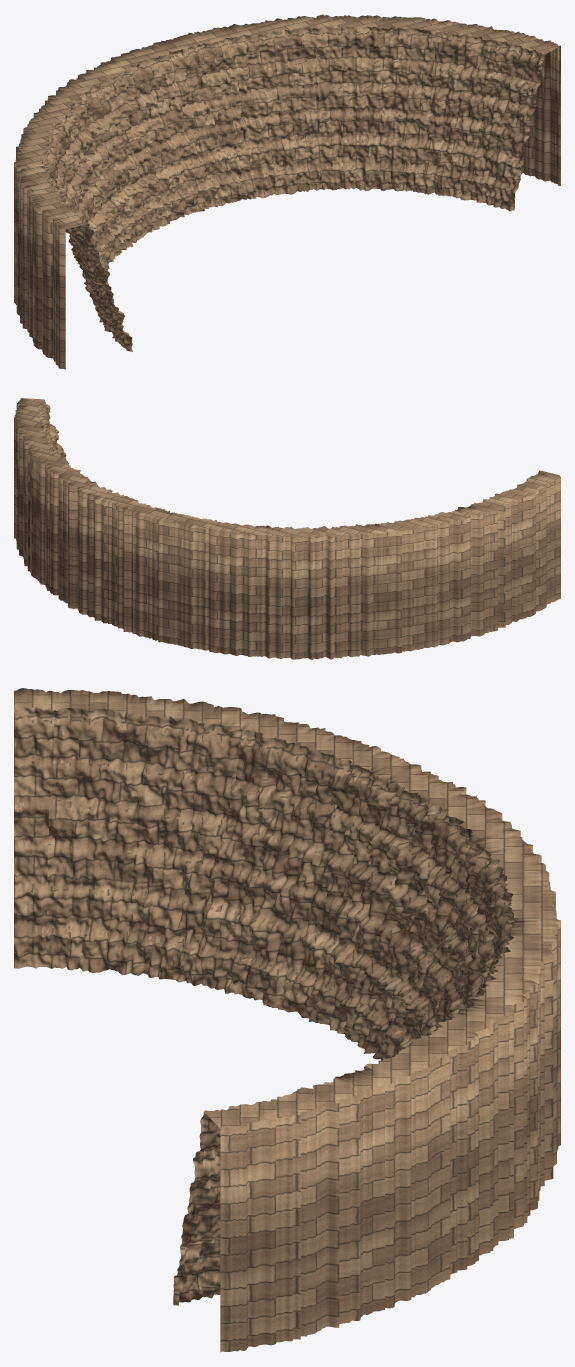
Rendered from map_walls_03.glb.
3 views of the same model, one above another, from view 1: azimuth 30°, elevation 25°; view 2: azimuth 150°, elevation 25°; view 3: azimuth 270°, elevation 25° (orthographic). The views are drawn at different scales.
Parts seen in each view (by area): view 1: Wall_02__wall_00, Wall_03__wall_00, Wall_01__wall_00, Wall_04__wall_00, Wall_07__wall_01, Wall_01__wall_01, Wall_05__wall_00, Wall_02__wall_01, Wall_03__wall_01, Wall_04__wall_01, Wall_05__wall_01, Wall_06__wall_01 (+2 smaller); view 2: Wall_05__wall_01, Wall_04__wall_01, Wall_06__wall_01, Wall_03__wall_01, Wall_07__wall_01, Wall_02__wall_01, Wall_01__wall_01, Wall_01__wall_00; view 3: Wall_01__wall_01, Wall_07__wall_00, Wall_06__wall_00, Wall_02__wall_01, Wall_05__wall_00, Wall_03__wall_01, Wall_07__wall_01, Wall_06__wall_01, Wall_05__wall_01, Wall_04__wall_01, Wall_04__wall_00, Wall_01__wall_00.
Part boxes in pixels (left/top/right/bottom): Wall_02__wall_00: left=340, top=26, right=436, bottom=192; Wall_03__wall_00: left=223, top=27, right=322, bottom=199; Wall_01__wall_00: left=442, top=34, right=544, bottom=211; Wall_04__wall_00: left=124, top=44, right=227, bottom=225; Wall_07__wall_01: left=20, top=175, right=132, bottom=369; Wall_01__wall_01: left=423, top=20, right=560, bottom=195; Wall_05__wall_00: left=64, top=78, right=153, bottom=261; Wall_02__wall_01: left=312, top=14, right=442, bottom=190; Wall_03__wall_01: left=187, top=16, right=315, bottom=203; Wall_04__wall_01: left=86, top=34, right=199, bottom=231; Wall_05__wall_01: left=29, top=71, right=110, bottom=269; Wall_06__wall_01: left=14, top=121, right=97, bottom=315; Wall_05__wall_01: left=270, top=523, right=384, bottom=659; Wall_04__wall_01: left=163, top=512, right=273, bottom=658; Wall_06__wall_01: left=379, top=504, right=486, bottom=653; Wall_03__wall_01: left=78, top=483, right=173, bottom=642; Wall_07__wall_01: left=473, top=470, right=560, bottom=632; Wall_02__wall_01: left=27, top=443, right=96, bottom=608; Wall_01__wall_01: left=14, top=398, right=56, bottom=566; Wall_01__wall_00: left=37, top=400, right=67, bottom=462; Wall_01__wall_01: left=204, top=1066, right=394, bottom=1352; Wall_07__wall_00: left=45, top=708, right=204, bottom=979; Wall_06__wall_00: left=201, top=730, right=367, bottom=1018; Wall_02__wall_01: left=365, top=998, right=513, bottom=1302; Wall_05__wall_00: left=329, top=783, right=477, bottom=1060; Wall_03__wall_01: left=474, top=918, right=560, bottom=1228; Wall_07__wall_01: left=14, top=688, right=220, bottom=968; Wall_06__wall_01: left=172, top=707, right=395, bottom=985; Wall_05__wall_01: left=308, top=756, right=516, bottom=1024; Wall_04__wall_01: left=397, top=830, right=556, bottom=1053; Wall_04__wall_00: left=421, top=854, right=514, bottom=1035; Wall_01__wall_00: left=173, top=1088, right=313, bottom=1305.
Bounding box in the file's own units: 829 × 197 × 435.
1 material, 1 textured.
